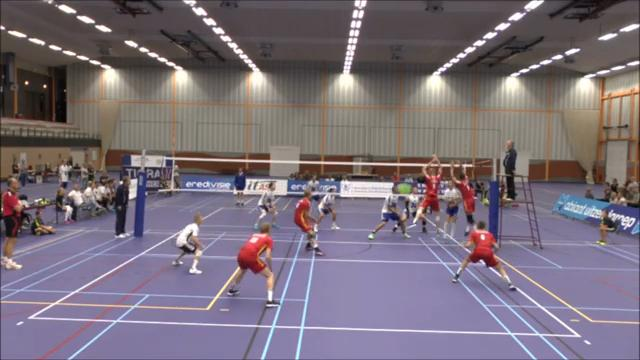Block: (404, 149, 444, 240), (449, 156, 479, 238)
Player: (227, 223, 279, 307), (452, 221, 515, 290), (368, 187, 410, 239), (294, 190, 323, 255), (173, 213, 203, 273), (254, 182, 278, 229), (314, 187, 339, 231), (443, 180, 461, 237), (403, 187, 420, 222), (307, 174, 320, 202)
